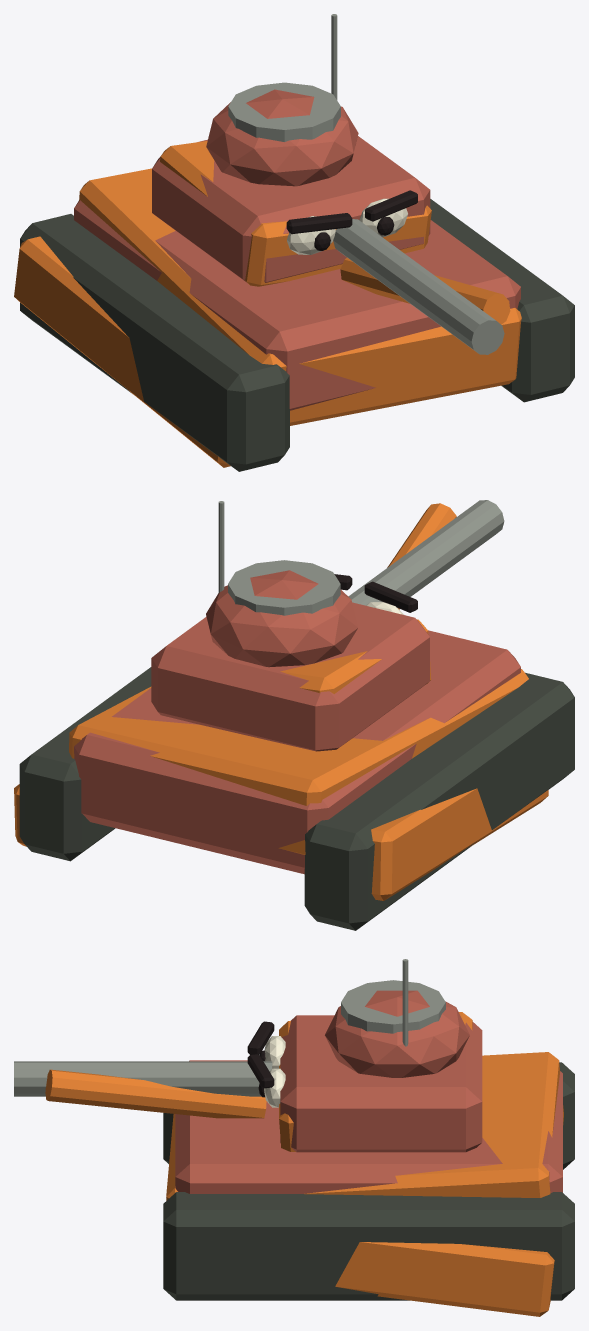
The model's file is SillyEnemyStandard.fbx.
3 views of the same model, one above another, from view 1: azimuth 30°, elevation 25°; view 2: azimuth 150°, elevation 25°; view 3: azimuth 270°, elevation 25° (orthographic). The views are drawn at different scales.
Parts seen in each view (by area): view 1: LeftTrack, Hull, Hull_Damaged, Turret, CommanderHelmet, LeftTrack_Damaged, RightTrack, Barrel, Turret_Damaged, Hatch, Barrel_Damaged, LeftBrow (+4 smaller); view 2: Hull, LeftTrack, Turret, Hull_Damaged, CommanderHelmet, RightTrack, LeftTrack_Damaged, Barrel, Hatch, Turret_Damaged, Barrel_Damaged, LeftBrow (+1 smaller); view 3: RightTrack, Turret, Hull, Hull_Damaged, RightTrack_Damaged, CommanderHelmet, Barrel_Damaged, Barrel, Hatch, LeftTrack, Turret_Damaged, Antenna (+4 smaller).
Part boxes in pixels (bbox=[...]): LeftTrack: bbox=[20, 214, 289, 471]; Hull: bbox=[74, 200, 520, 410]; Hull_Damaged: bbox=[79, 168, 521, 425]; Turret: bbox=[152, 136, 430, 282]; CommanderHelmet: bbox=[206, 89, 358, 186]; LeftTrack_Damaged: bbox=[14, 236, 230, 467]; RightTrack: bbox=[430, 199, 574, 402]; Barrel: bbox=[333, 219, 504, 354]; Turret_Damaged: bbox=[160, 141, 431, 286]; Hatch: bbox=[228, 82, 340, 141]; Barrel_Damaged: bbox=[340, 257, 510, 324]; LeftBrow: bbox=[286, 213, 352, 234]; Hull: bbox=[74, 630, 520, 874]; LeftTrack: bbox=[304, 672, 574, 930]; Turret: bbox=[151, 602, 429, 751]; Hull_Damaged: bbox=[69, 669, 528, 854]; CommanderHelmet: bbox=[206, 570, 358, 667]; RightTrack: bbox=[19, 667, 151, 861]; LeftTrack_Damaged: bbox=[371, 788, 548, 900]; Barrel: bbox=[348, 500, 504, 605]; Hatch: bbox=[228, 560, 340, 615]; Turret_Damaged: bbox=[280, 619, 431, 693]; Barrel_Damaged: bbox=[387, 503, 456, 609]; LeftBrow: bbox=[364, 581, 417, 612]; RightTrack: bbox=[163, 1192, 574, 1300]; Turret: bbox=[280, 1015, 482, 1152]; Hull: bbox=[175, 1060, 562, 1193]; Hull_Damaged: bbox=[166, 1052, 563, 1200]; RightTrack_Damaged: bbox=[335, 1242, 554, 1316]; CommanderHelmet: bbox=[325, 990, 469, 1077]; Barrel_Damaged: bbox=[45, 1069, 266, 1118]; Barrel: bbox=[14, 1061, 272, 1096]; Hatch: bbox=[341, 980, 445, 1033]; LeftTrack: bbox=[163, 1062, 574, 1169]; Turret_Damaged: bbox=[279, 1012, 472, 1151]; Antenna: bbox=[402, 959, 408, 1046].
Size of the model in its own units: 5.05 by 4.15 by 6.95.
